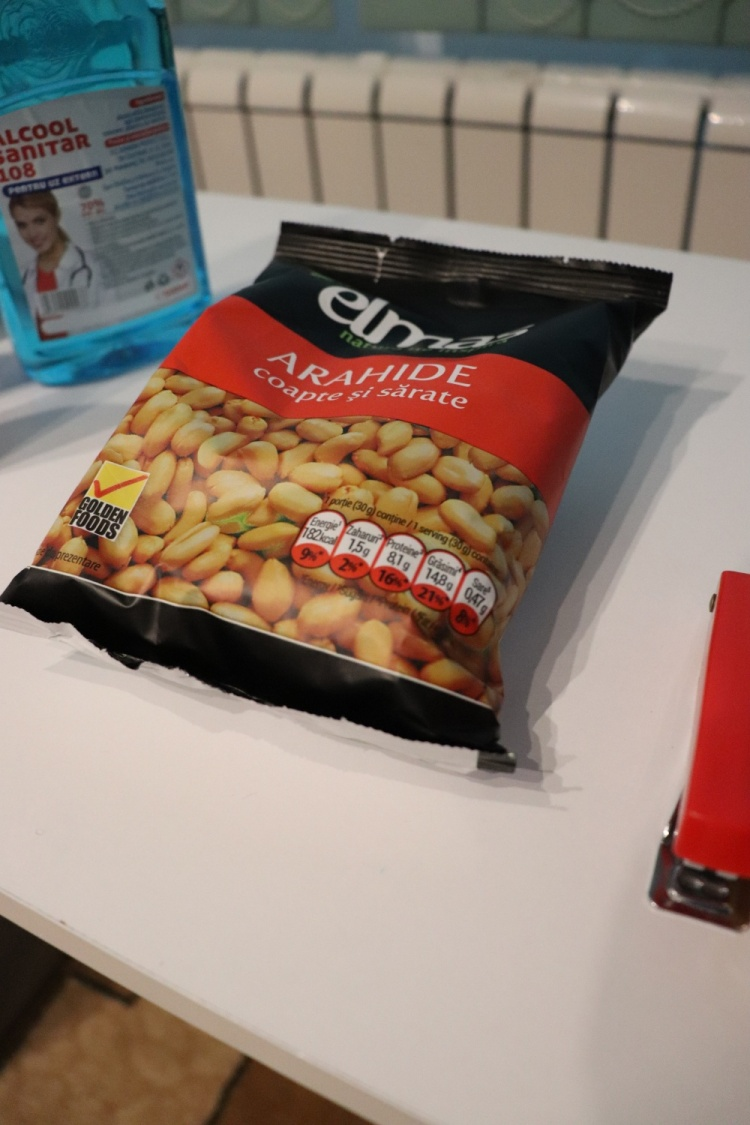peanuts: (19, 215, 673, 799)
